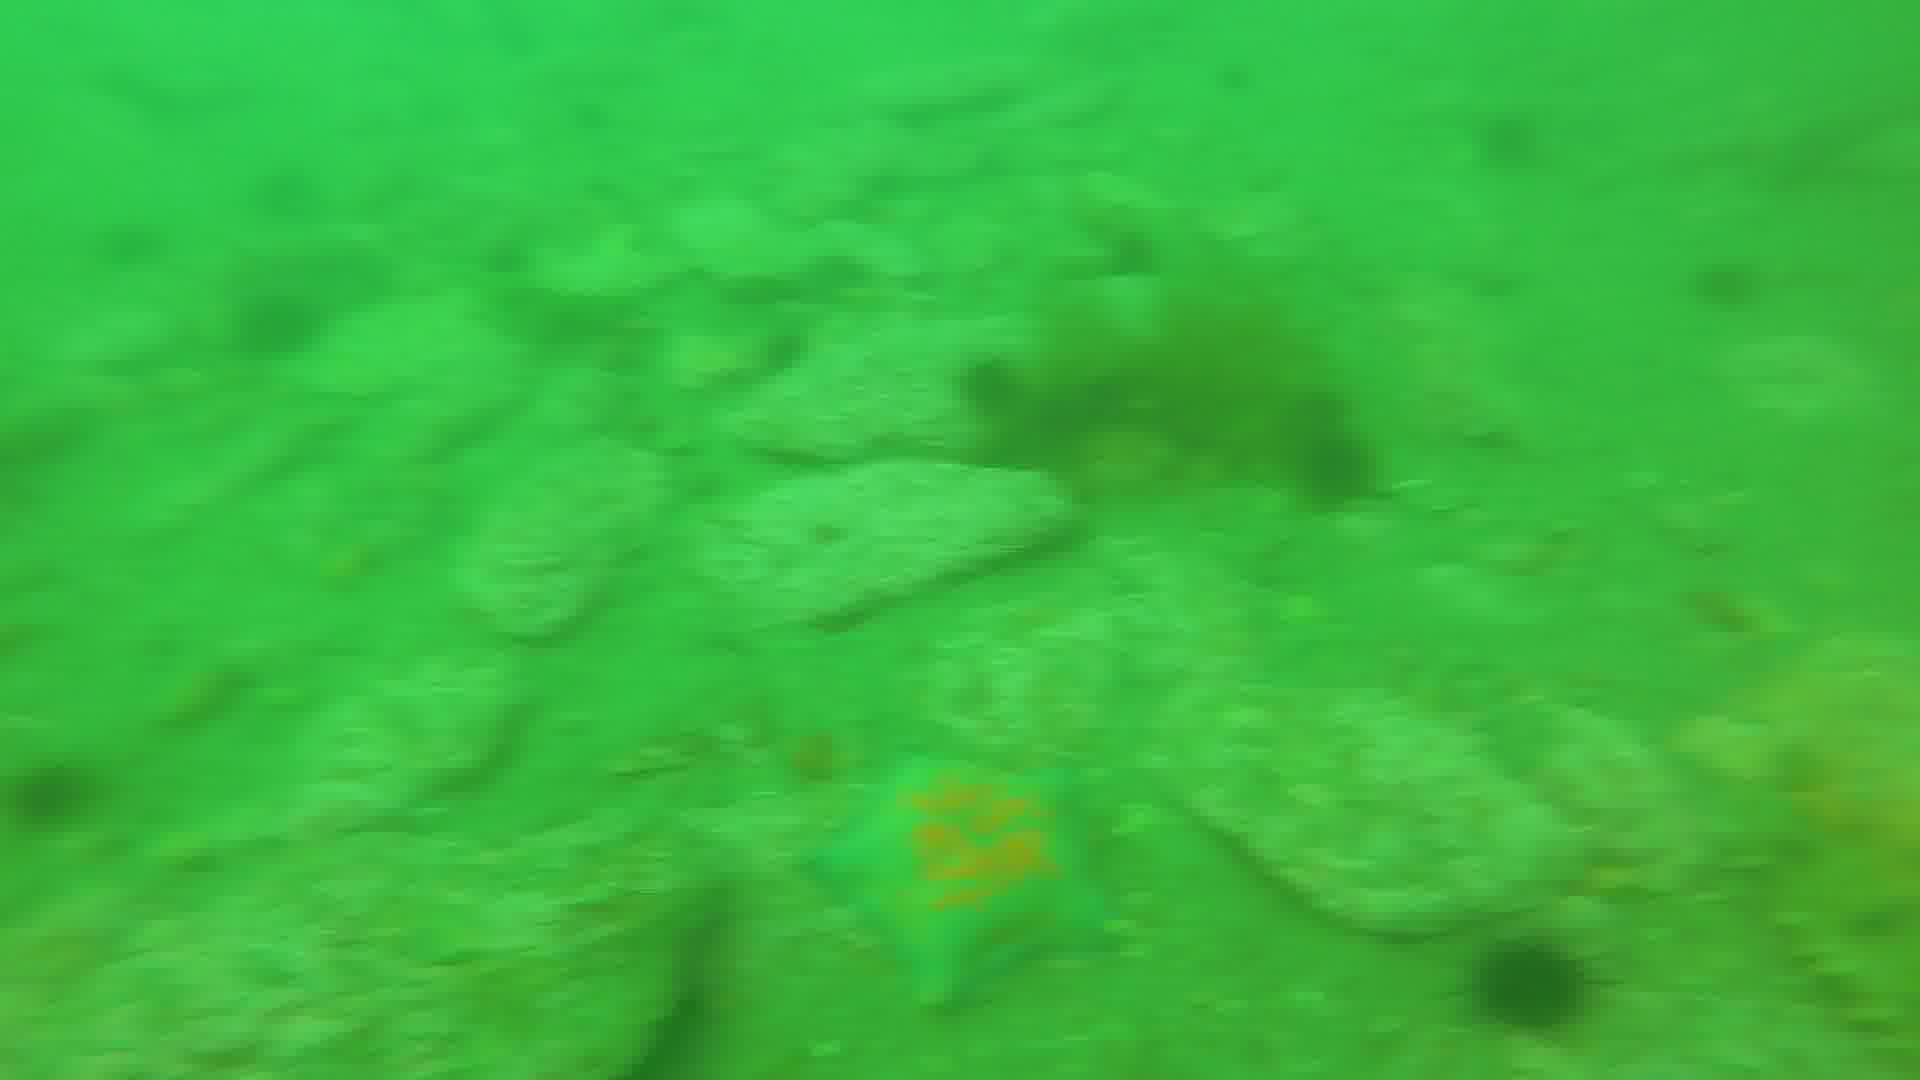echinus: (1468, 919, 1600, 1035), (1307, 425, 1389, 512), (40, 754, 105, 829), (963, 359, 1019, 409)
starfish: (803, 754, 1114, 1004)
